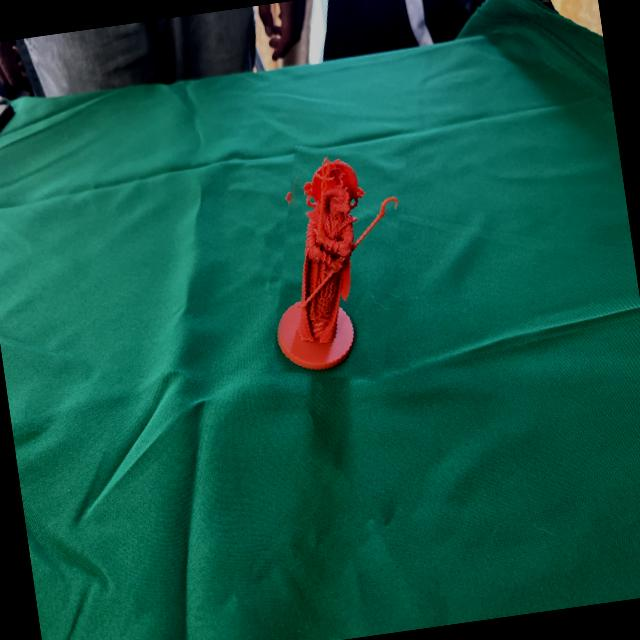amon: (255, 138, 424, 391)
